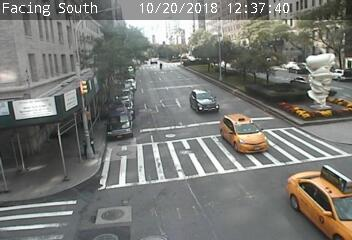car: (219, 115, 268, 154), (190, 90, 221, 112)
